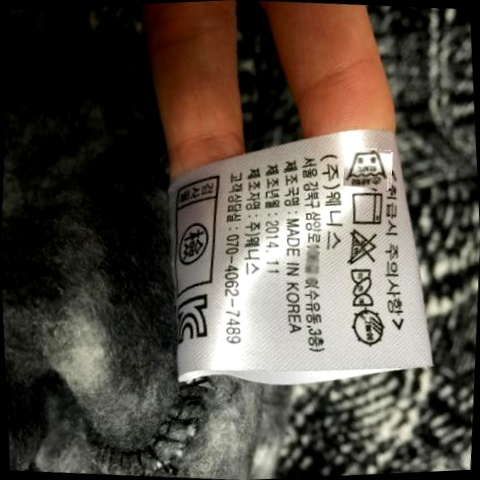DN_bleach: (346, 229, 382, 265)
hand_wash: (344, 148, 389, 188)
machine_wash: (347, 191, 386, 227)
shade_dry: (350, 308, 388, 350)
wring: (346, 267, 380, 309)
